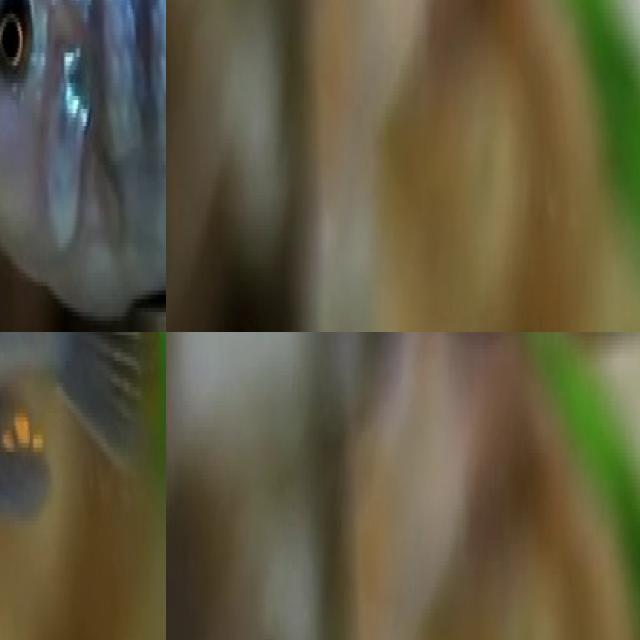fish: (0, 0, 166, 332), (0, 332, 166, 542)
